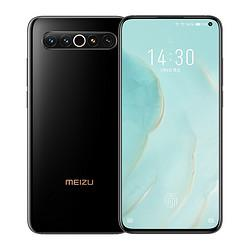phone: (117, 15, 223, 232), (25, 15, 121, 234)
